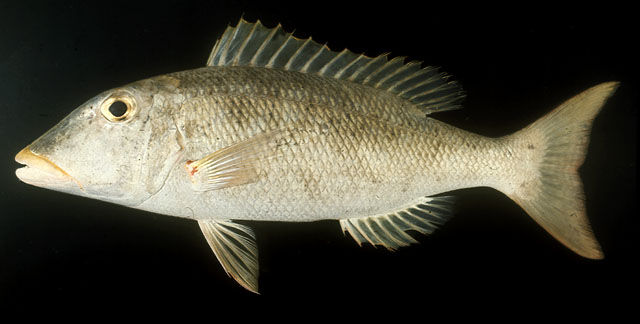fish: (13, 17, 621, 295)
